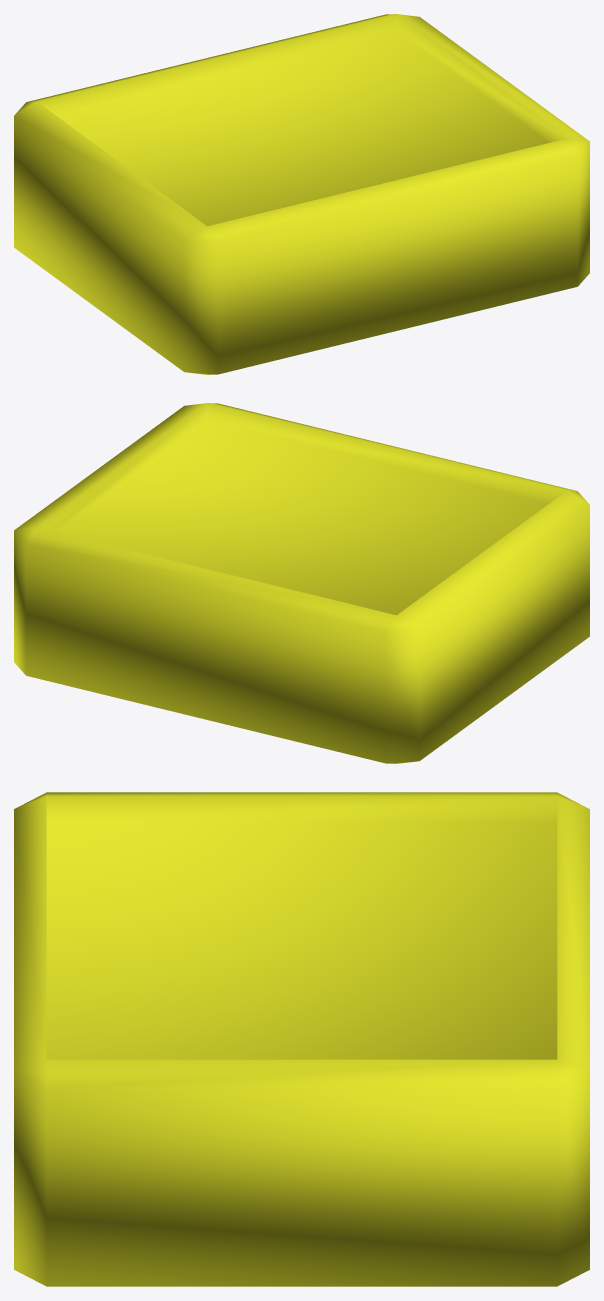
The model's file is blob-router.glb.
The picture shows the model from 3 angles, top to bottom: view 1: azimuth 30°, elevation 25°; view 2: azimuth 150°, elevation 25°; view 3: azimuth 270°, elevation 25°; orthographic projection. The views are drawn at different scales.
Parts seen in each view (by area): view 1: Cube; view 2: Cube; view 3: Cube.
Part boxes in pixels (x1,y1,x2,y2): Cube: (14,14,589,374); Cube: (14,403,589,763); Cube: (14,792,589,1286).
Size of the model in its own units: 2 by 0.7 by 1.64.
